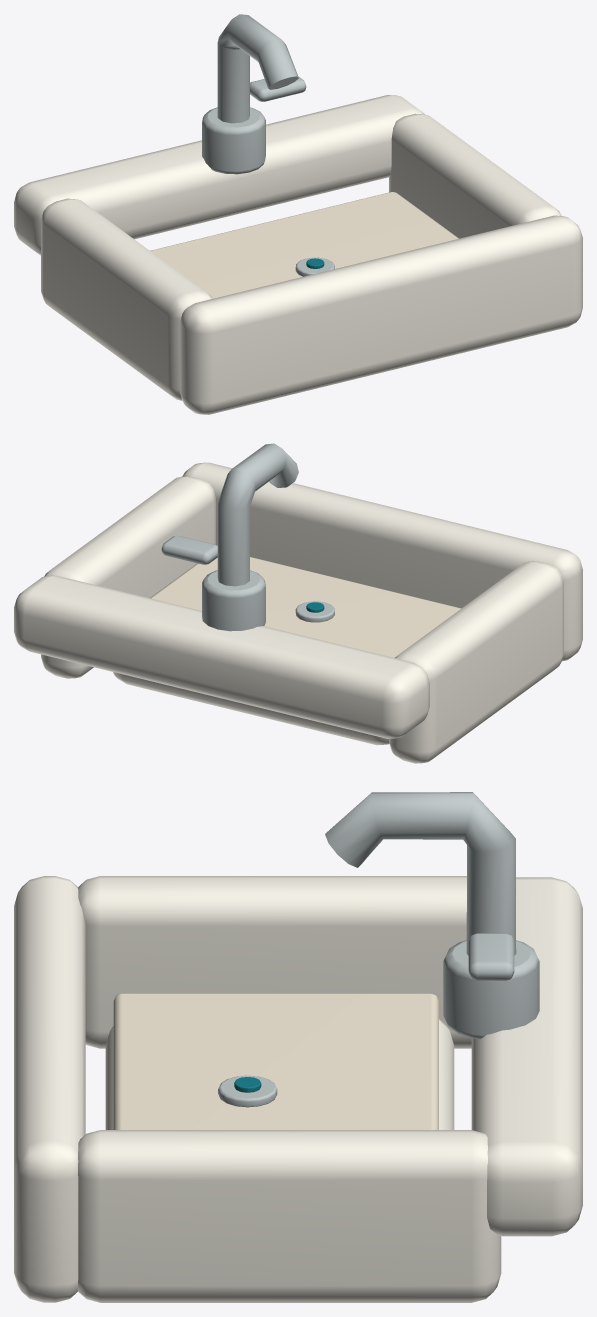
Rendered from Clinical_Handwash_Basin.glb.
3 renders of one model, top to bottom at view 1: azimuth 30°, elevation 25°; view 2: azimuth 150°, elevation 25°; view 3: azimuth 270°, elevation 25°, orthographic. The views are drawn at different scales.
Parts seen in each view (by area): view 1: Clinical_Handwash_Basin__Visual; view 2: Clinical_Handwash_Basin__Visual; view 3: Clinical_Handwash_Basin__Visual.
Part boxes in pixels (box(x1,y1,x2,y2)): Clinical_Handwash_Basin__Visual: box(14, 14, 582, 414); Clinical_Handwash_Basin__Visual: box(14, 443, 582, 763); Clinical_Handwash_Basin__Visual: box(14, 792, 582, 1302).
Size of the model in its own units: 0.55 by 0.3444 by 0.46.
Materials: 1 (1 with a texture image).
